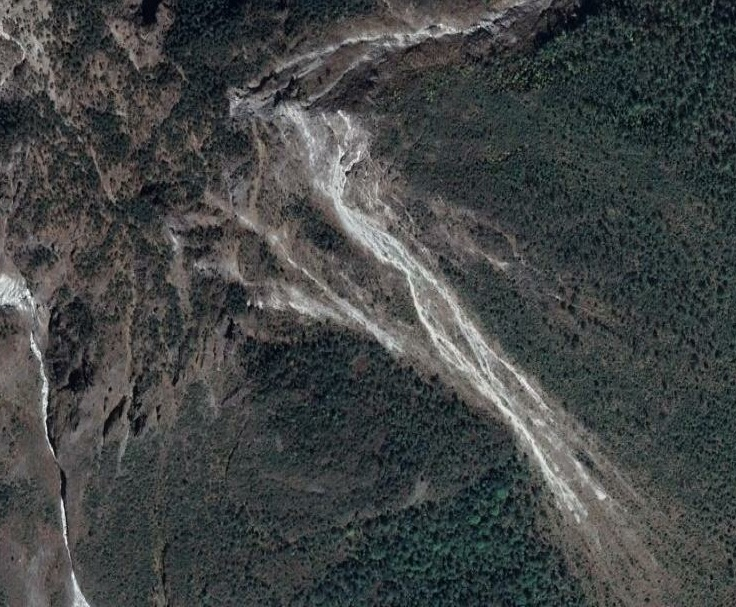slope: (244, 94, 609, 521), (0, 269, 44, 332)
